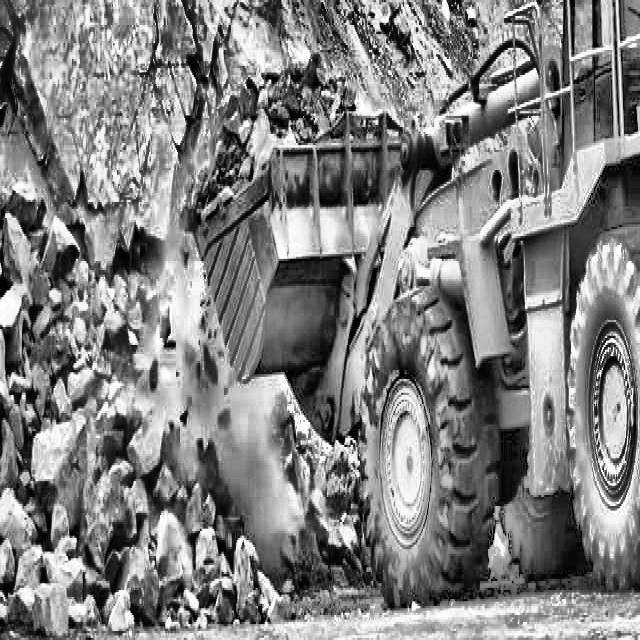buldozerpayloadergrader: (184, 0, 640, 622)
